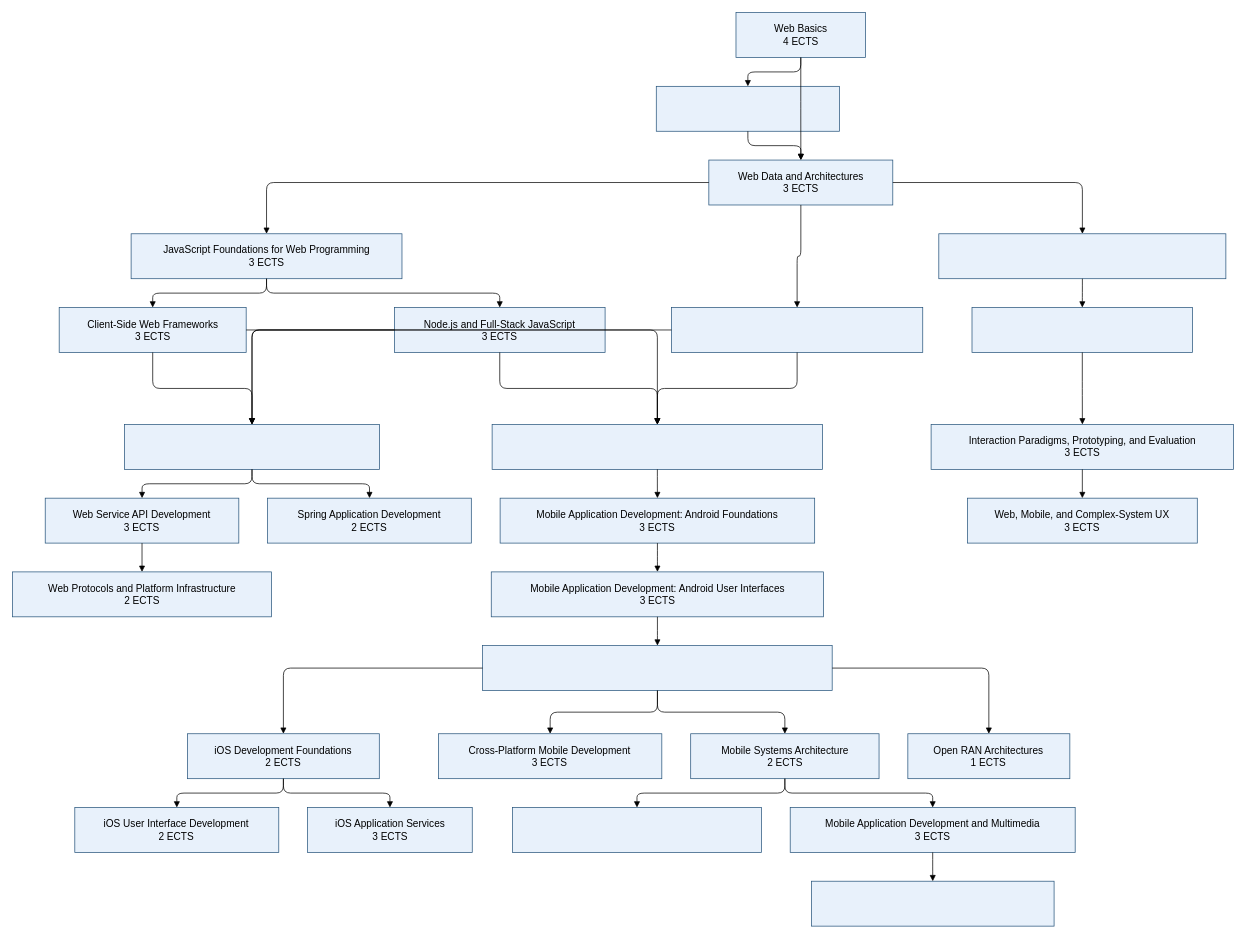
The diagram is 1246 pixels wide and 939 high, and some of its shapes have lost their labels. Here are the shapes that lost their labels. From the top down, the box of each, then its label:
(656, 86, 839, 131): Web Content and Standards 3 ECTS
(938, 233, 1226, 279): HCI Foundations and Interaction Concept Design 3 ECTS
(671, 307, 923, 352): Server-Side Web Development Languages 3 ECTS
(971, 307, 1193, 352): User Research and Usability Design 3 ECTS
(124, 424, 380, 469): Web Application Architecture Foundations 3 ECTS
(491, 424, 823, 469): Mobile Application Development: Foundations and Design 3 ECTS
(482, 645, 832, 691): Mobile Application Development: Android Data and Execution 3 ECTS
(512, 807, 761, 852): Mobile Communication and Data Services 2 ECTS
(811, 880, 1054, 926): Mobile Embedded Systems and Robotics 2 ECTS
